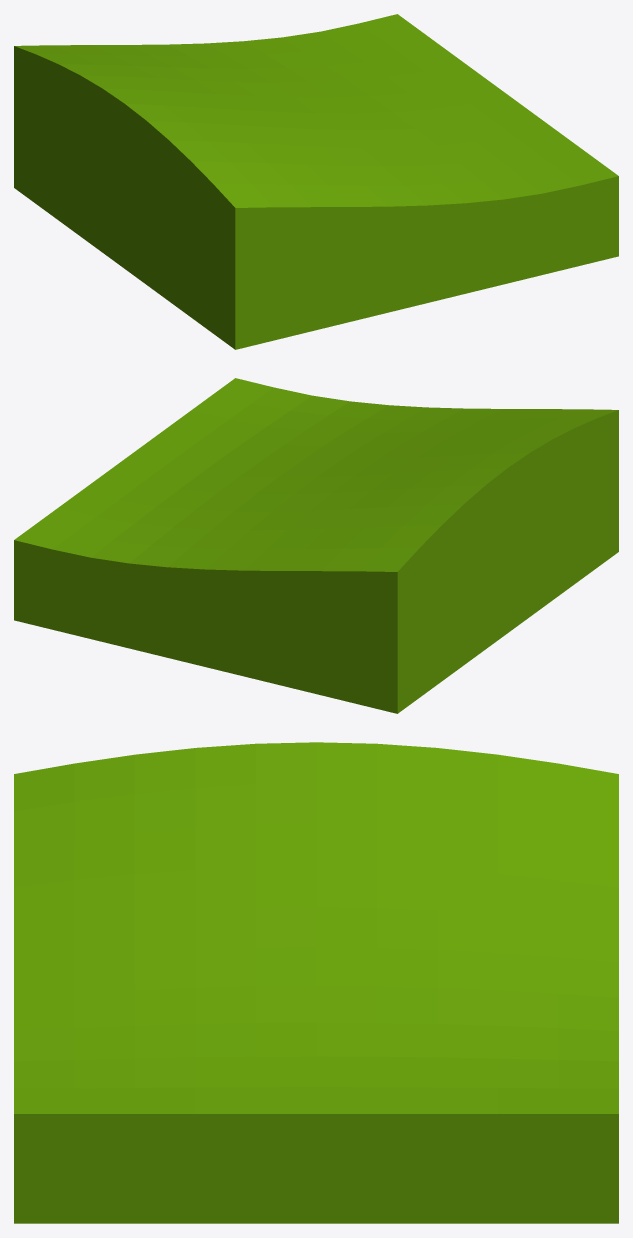
Rendered from TileGround_41.fbx.
The picture shows the model from 3 angles, top to bottom: view 1: azimuth 30°, elevation 25°; view 2: azimuth 150°, elevation 25°; view 3: azimuth 270°, elevation 25°; orthographic projection. The views are drawn at different scales.
Visible parts, largest first — view 1: TileGround_41; view 2: TileGround_41; view 3: TileGround_41.
Boxes of the visible parts, x1,y1,x2,y2 form: TileGround_41: [14, 14, 618, 349]; TileGround_41: [14, 378, 618, 713]; TileGround_41: [14, 742, 618, 1223].
Size of the model in its own units: 500 by 206 by 500.
